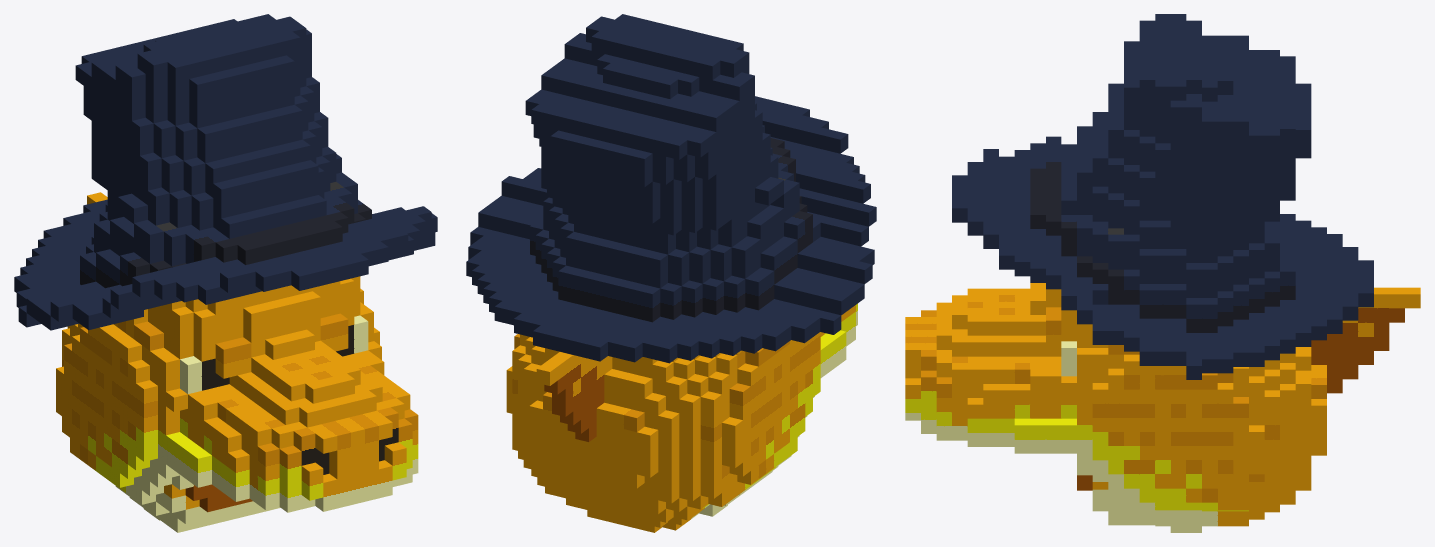
File: top hat_vr goggles.gltf
3 renders of one model, left to right at view 1: azimuth 30°, elevation 25°; view 2: azimuth 150°, elevation 25°; view 3: azimuth 270°, elevation 25°, orthographic. The views are drawn at different scales.
Parts seen in each view (by area): view 1: C55_H_TopH_VRGg-Mesh; view 2: C55_H_TopH_VRGg-Mesh; view 3: C55_H_TopH_VRGg-Mesh.
Boxes of the visible parts, x1=… form: C55_H_TopH_VRGg-Mesh: x1=14, y1=14, x2=437, y2=532; C55_H_TopH_VRGg-Mesh: x1=466, y1=14, x2=876, y2=532; C55_H_TopH_VRGg-Mesh: x1=905, y1=14, x2=1420, y2=532.
Size of the model in its own units: 27 by 32 by 33.
Materials: 1 (1 with a texture image).
